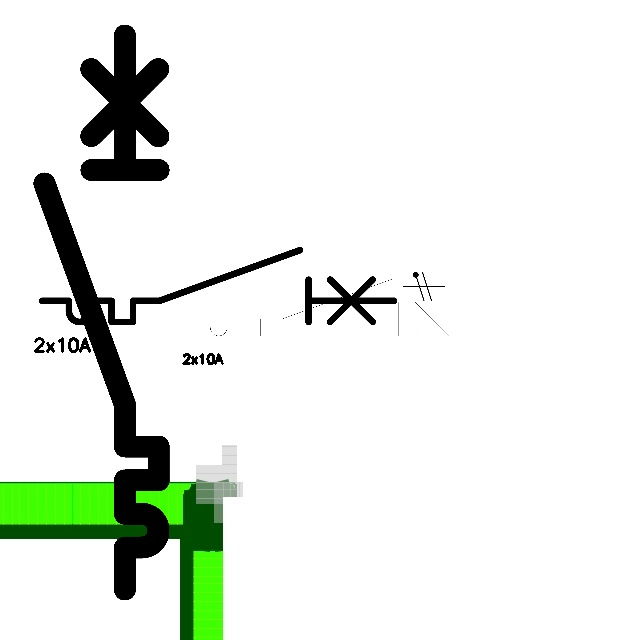interruptor_termomagnetico: (30, 21, 173, 604), (33, 241, 403, 331), (182, 272, 473, 343)
